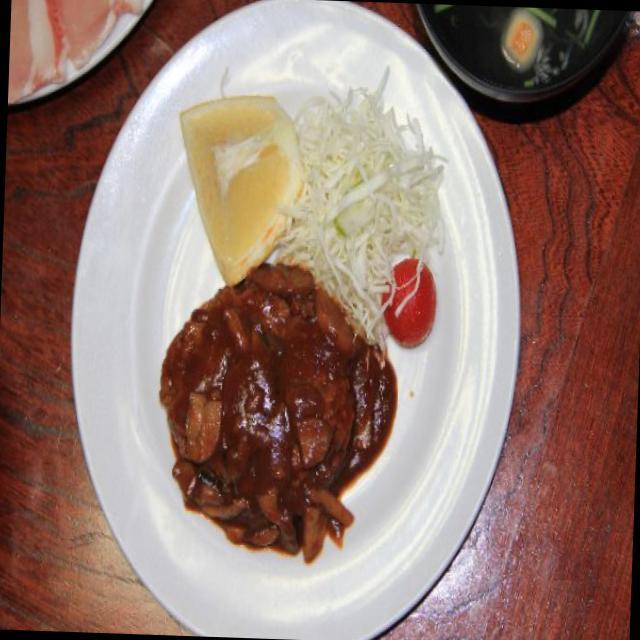Green Salad: (288, 77, 458, 266)
